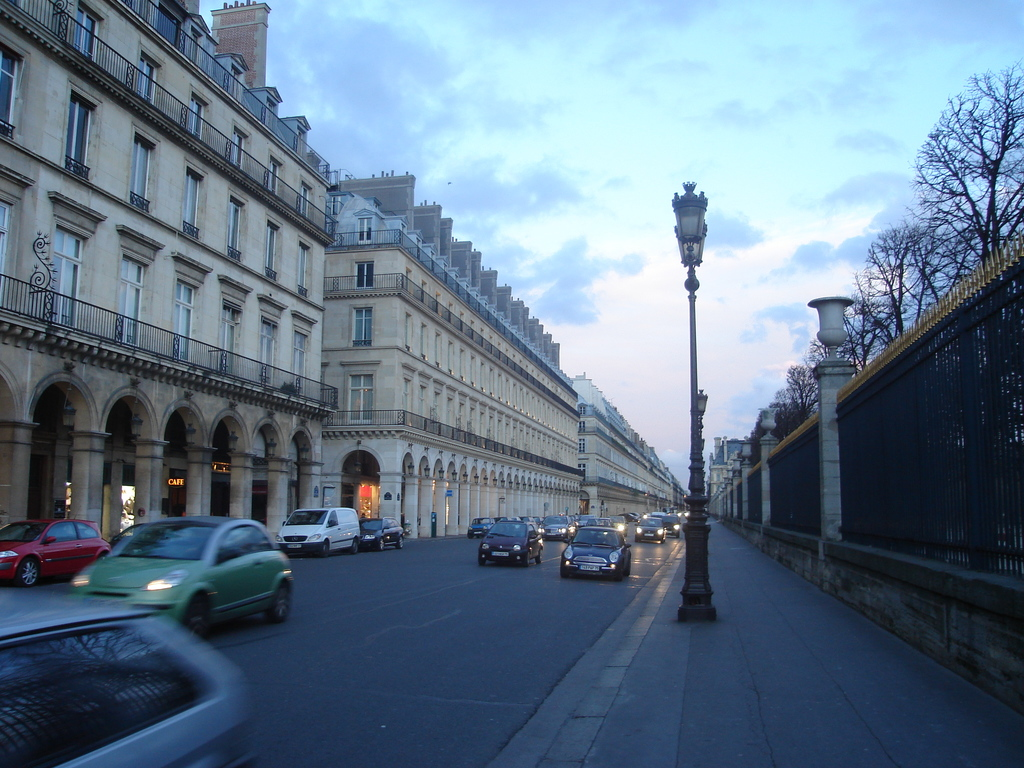mobil: (281, 504, 362, 563), (558, 531, 633, 586), (476, 522, 546, 572)
